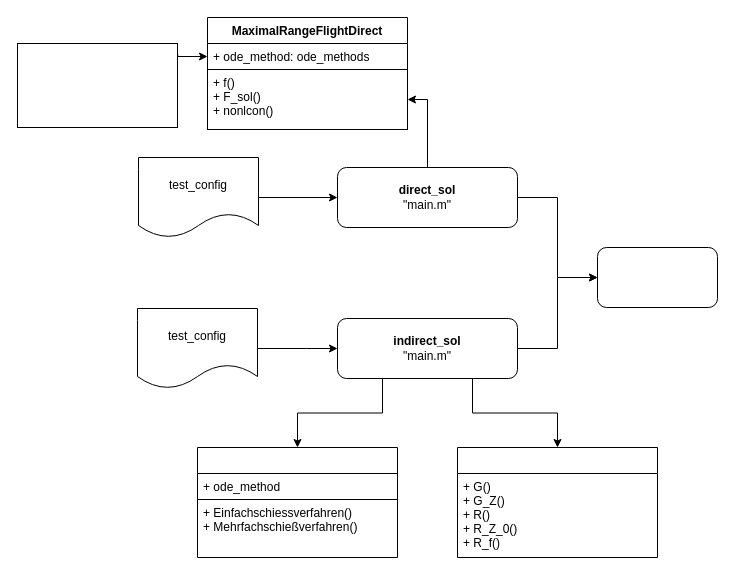
The diagram is 735 pixels wide and 578 high, and some of its shapes have lost their labels. Here are the shapes that lost their labels. From the top down, the box of each, then its label:
(16, 42, 178, 128): ode_methods + explicit_euler() + implicit_euler() + implicit_rk_radau2A()
(596, 246, 718, 308): Plotter
(196, 446, 398, 558): shooting_methods
(456, 446, 658, 558): MaximalRangeFlightIndirect
